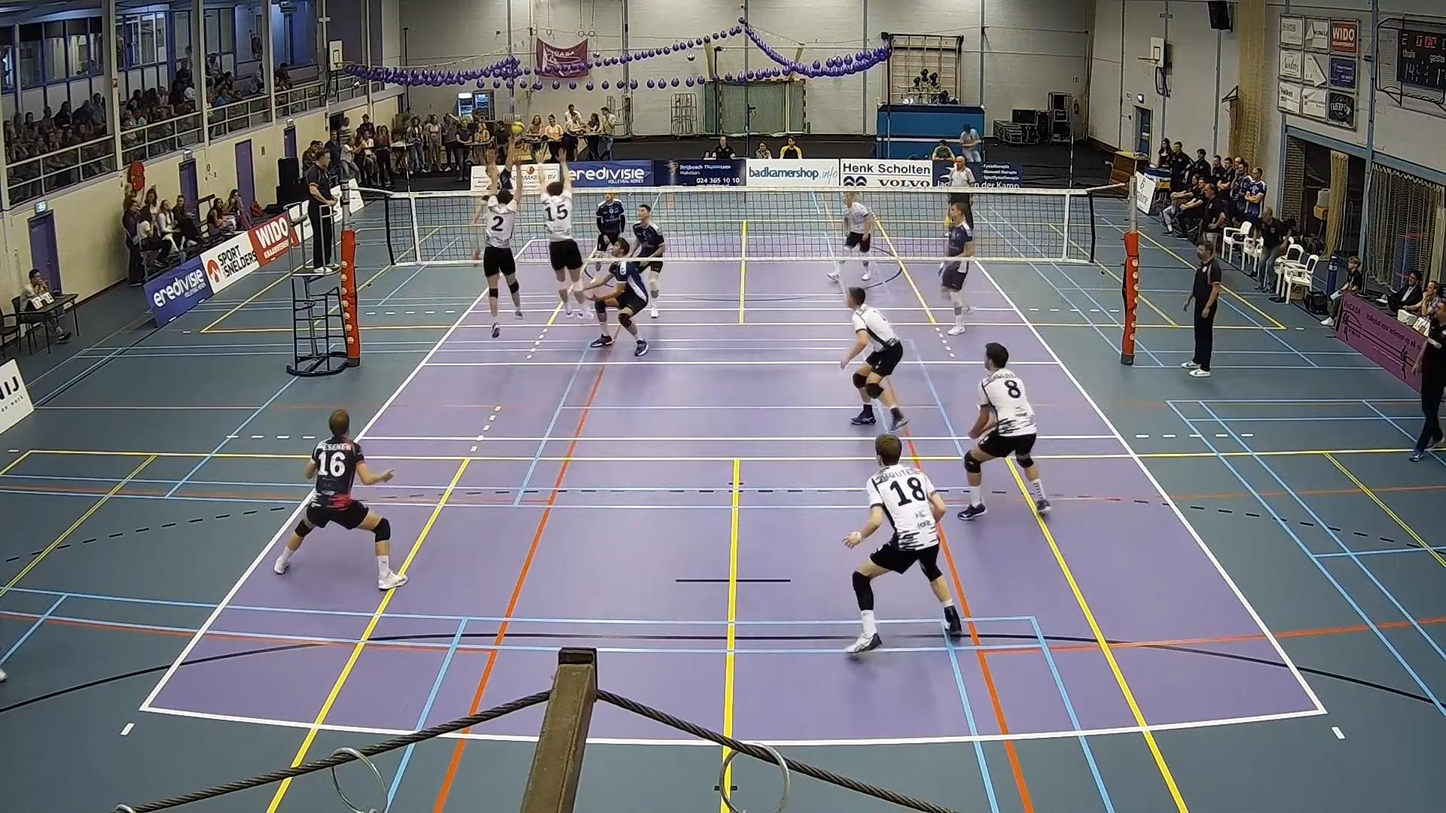attacco: (469, 132, 527, 202)
muro: (536, 164, 593, 323), (477, 161, 525, 339)
